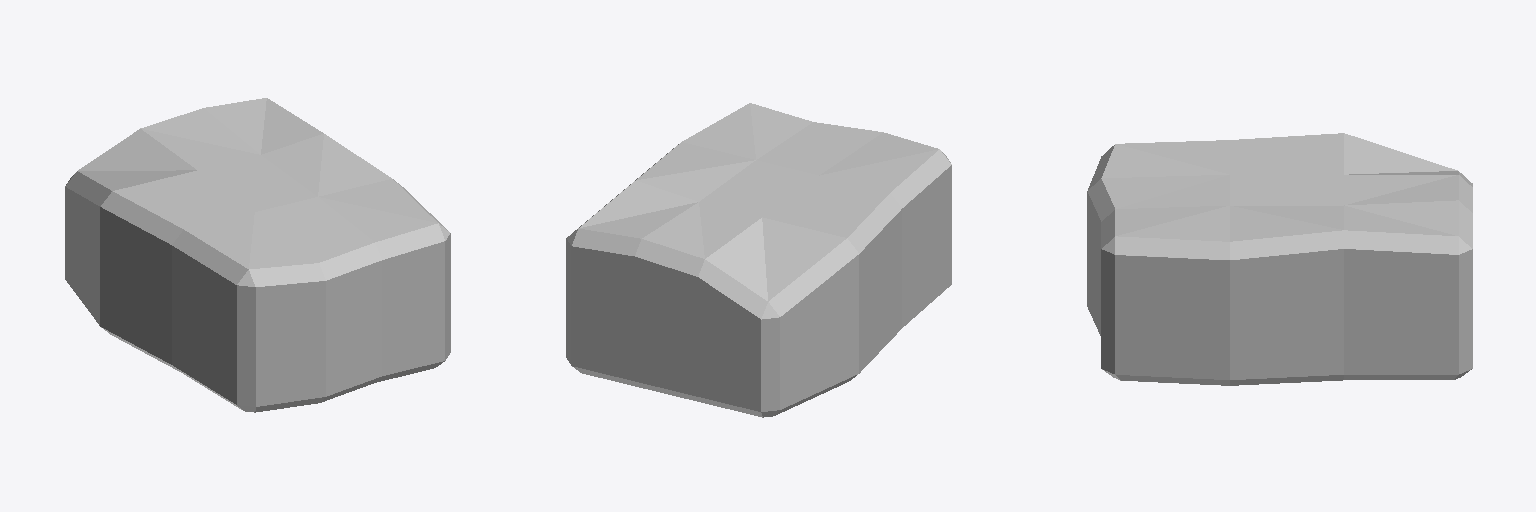
The model's file is StoneBlock_1_3.obj.
The picture shows the model from 3 angles: view 1: azimuth 30°, elevation 25°; view 2: azimuth 150°, elevation 25°; view 3: azimuth 270°, elevation 25°; orthographic projection.
Visible parts, largest first — view 1: StoneBlock_1_3; view 2: StoneBlock_1_3; view 3: StoneBlock_1_3.
Part boxes in pixels (bbox=[...]): StoneBlock_1_3: bbox=[65, 98, 450, 412]; StoneBlock_1_3: bbox=[566, 103, 951, 417]; StoneBlock_1_3: bbox=[1087, 133, 1472, 385].
Bounding box in the file's own units: 0.5361 × 0.3093 × 0.7236.